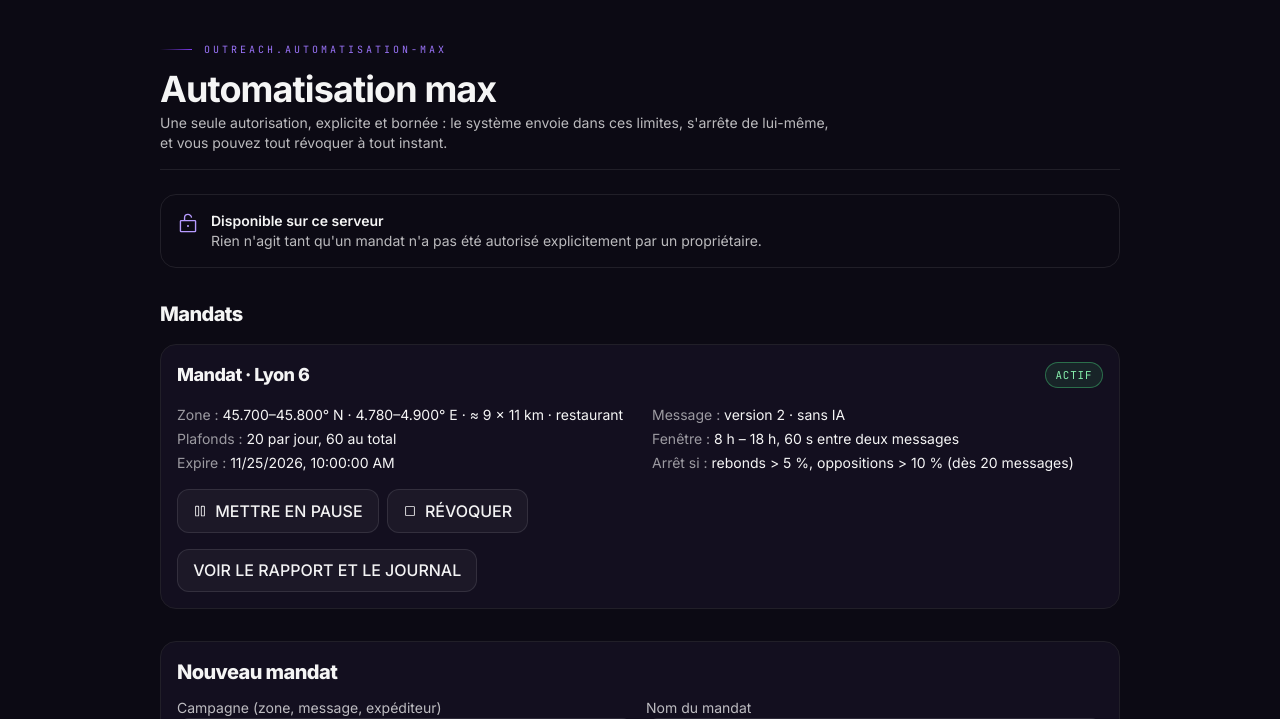
Scenario: pause, revocation and the report › pauses at once and revokes only after a confirmation that says it is final
Later steps or results of the test are not shown.
Click the button "METTRE EN PAUSE" at [278, 511], box 177,489 -> 379,533
Click the button "RÉVOQUER" at [458, 511], box 387,489 -> 528,533
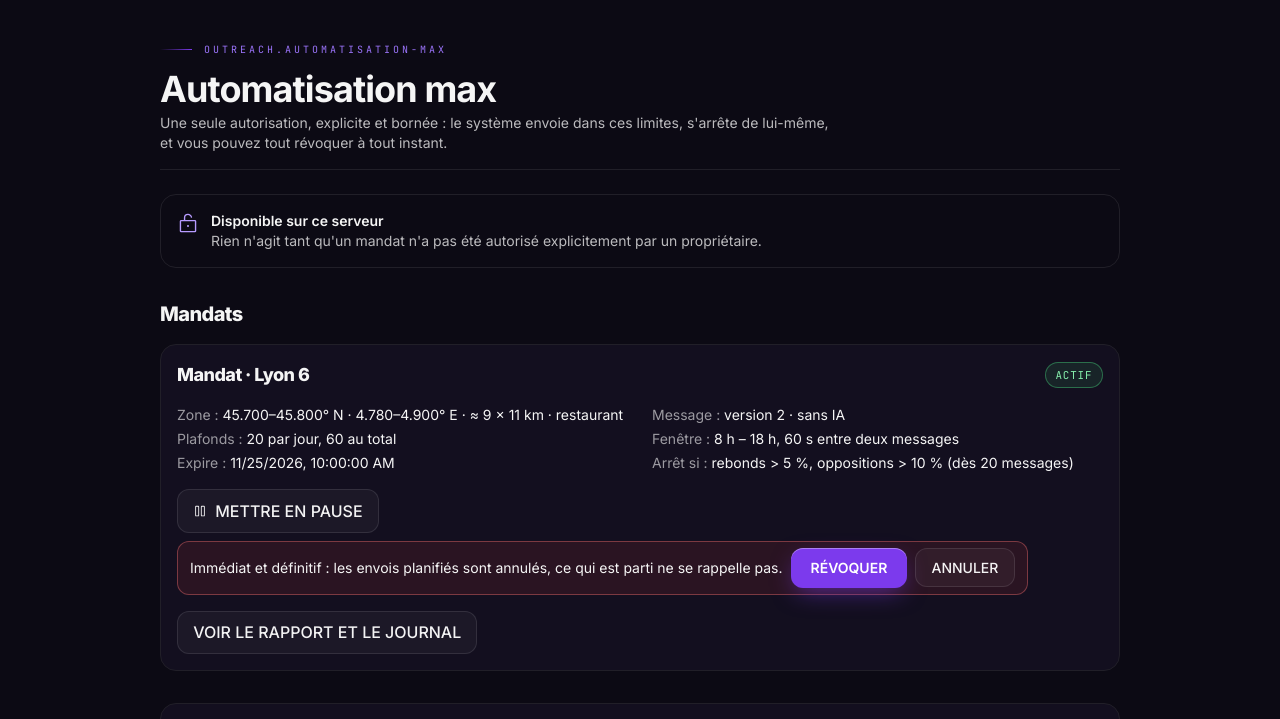
Check: the text "Immédiat et définitif" is shown, box 190,559 -> 782,576
